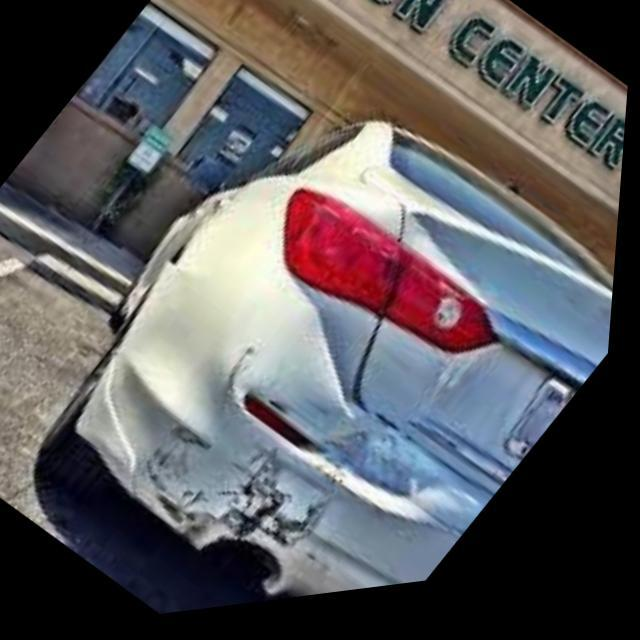crack: (139, 345, 510, 605)
